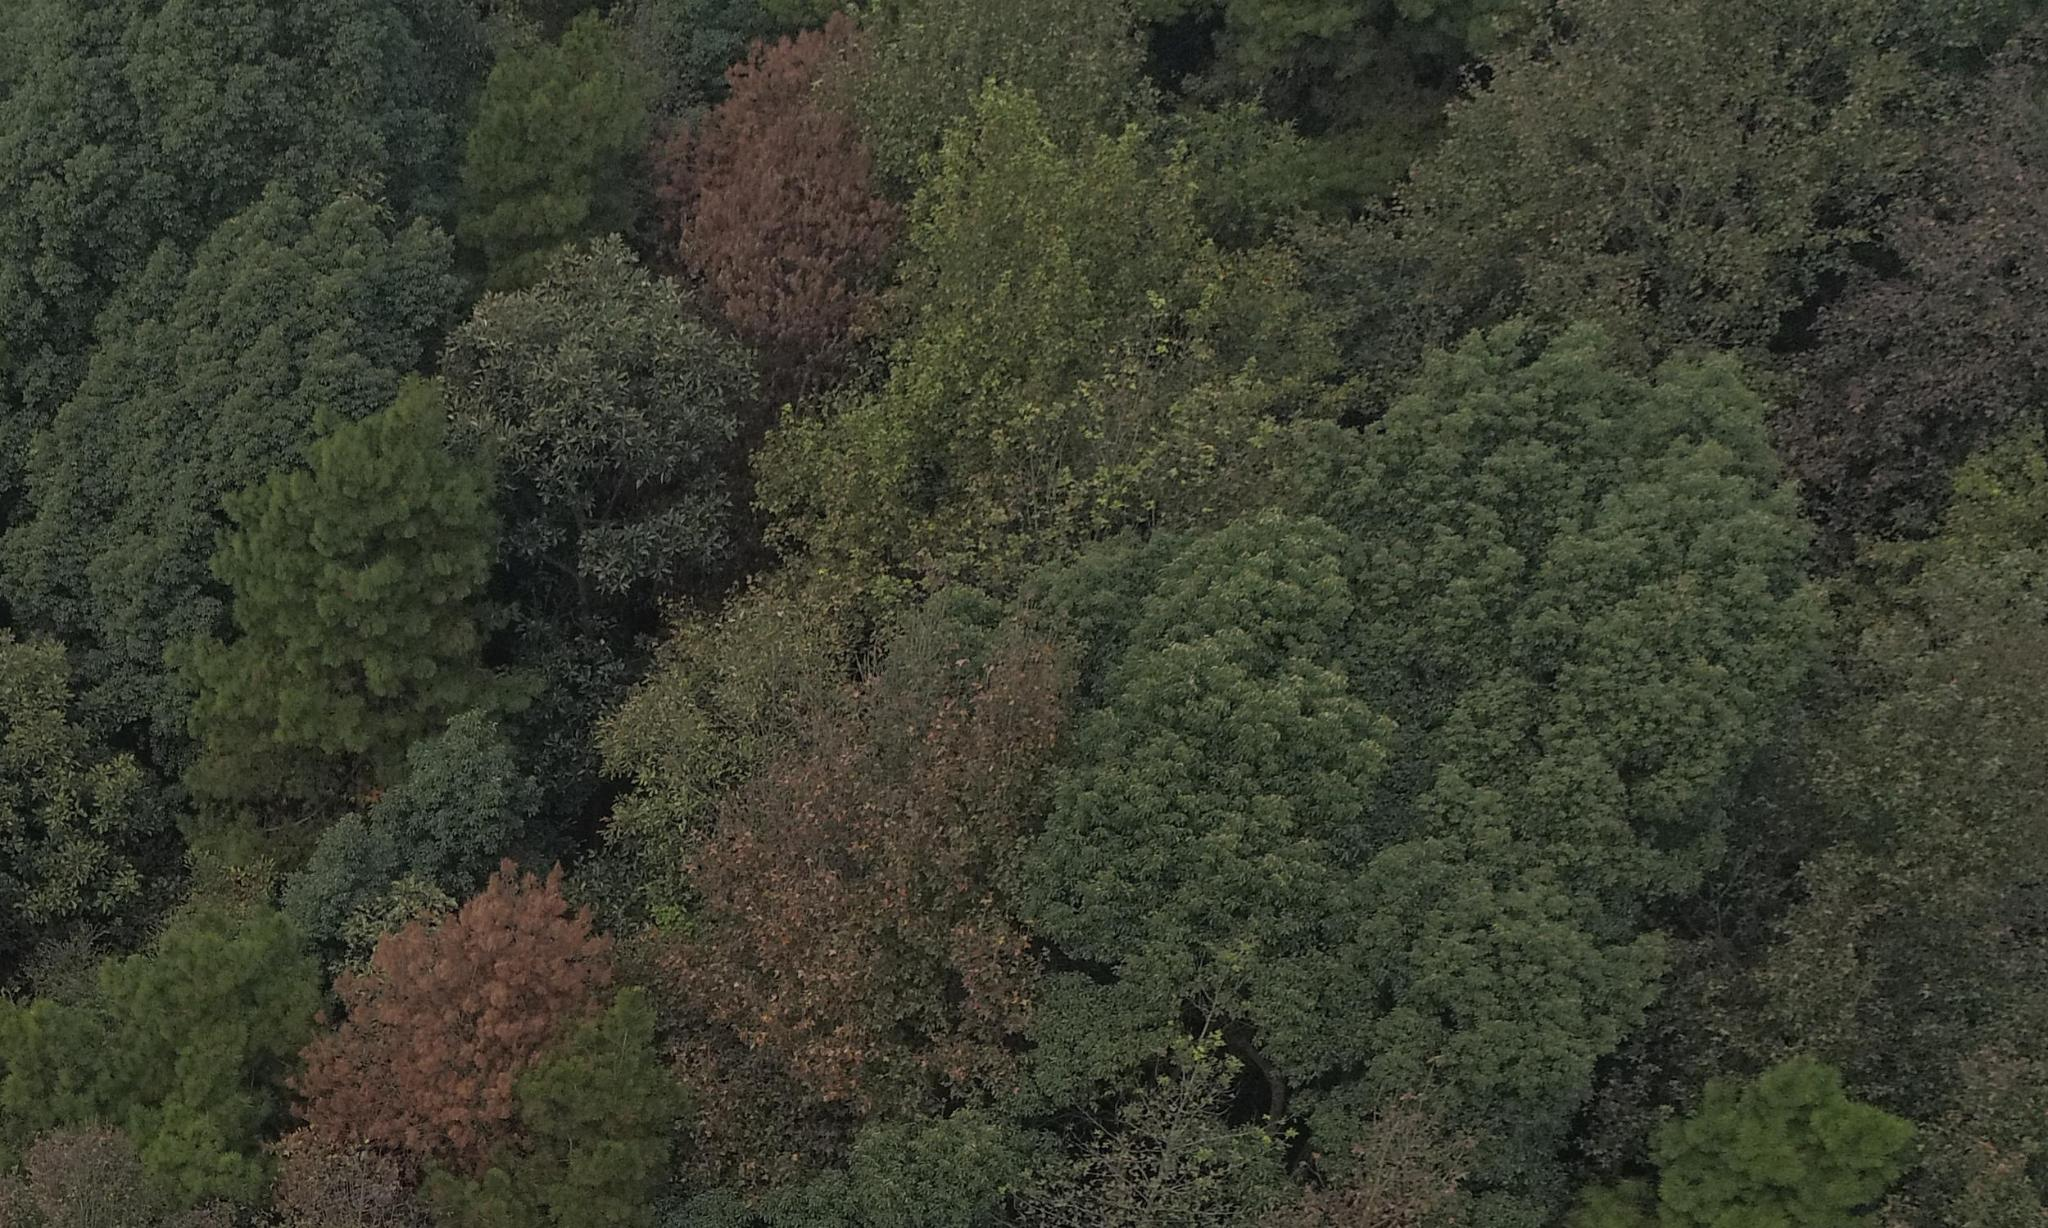heavy: (301, 851, 615, 1165), (634, 22, 912, 364)
